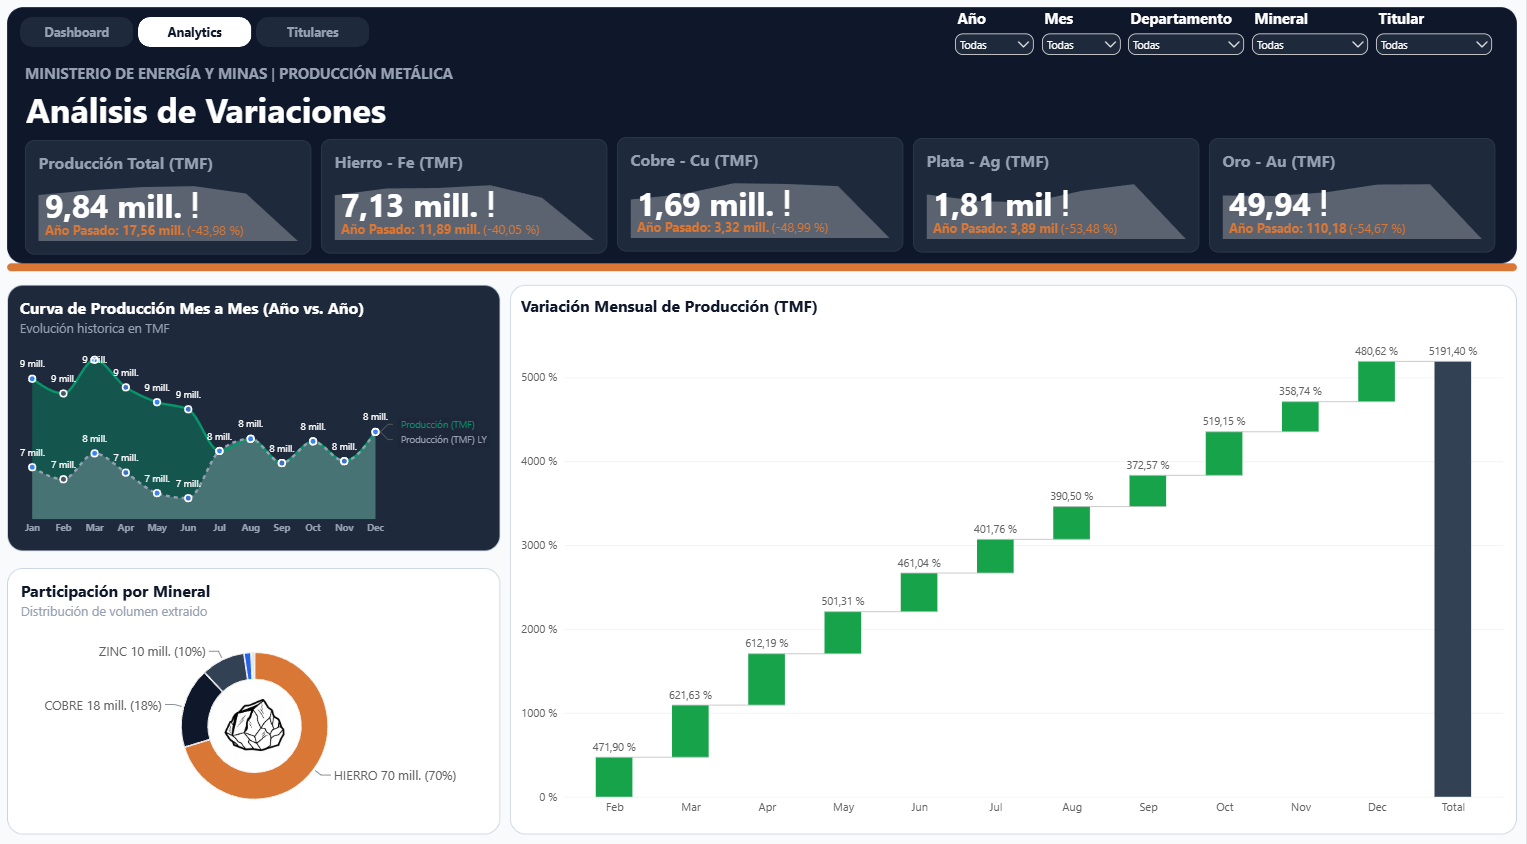

This screenshot's page, from the dashboard's own definition file:
{"tool":"powerbi","page":{"name":"Analytics","canvas":[1920,1080],"ordinal":1},"visuals":[{"type":"textbox","box":[32.9,84.3,701.4,28.6],"z":0},{"type":"textbox","box":[34.3,112.9,705.7,64.3],"z":1000},{"type":"kpi","title":"Producción Total (TMF)","fields":{"Goal":["MEDIDAS.Produccion Total LY"],"Indicator":["MEDIDAS.Produccion Total"],"TrendLine":["DIM_TIEMPO.Año"]},"box":[32.9,181.4,360,144],"z":2000},{"type":"kpi","title":"Cobre - Cu (TMF)","fields":{"Goal":["MEDIDAS.Cobre - Cu (TMF) LY"],"Indicator":["MEDIDAS.Cobre - Cu (TMF)"],"TrendLine":["DIM_TIEMPO.Año"]},"box":[777.1,177.1,360,144.3],"z":3000},{"type":"kpi","title":"Plata - Ag (TMF)","fields":{"Goal":["MEDIDAS.Plata - Ag (TMF) LY"],"Indicator":["MEDIDAS.Plata - Ag (TMF)"],"TrendLine":["DIM_TIEMPO.Año"]},"box":[1149.3,178.6,360,144],"z":4000},{"type":"kpi","title":"Oro - Au (TMF)","fields":{"Goal":["MEDIDAS.Oro - Au (TMF) LY"],"Indicator":["MEDIDAS.Oro - Au (TMF)"],"TrendLine":["DIM_TIEMPO.Año"]},"box":[1521.4,178.6,360,144],"z":5000},{"type":"kpi","title":"Hierro - Fe (TMF)","fields":{"Goal":["MEDIDAS.Hierro - Fe (TMF) LY"],"Indicator":["MEDIDAS.Hierro - Fe (TMF)"],"TrendLine":["DIM_TIEMPO.Año"]},"box":[405,180,360,144],"z":6000},{"type":"shape","box":[26.9,26.5,142.6,37.7],"z":7000},{"type":"shape","box":[174.9,26.5,142.6,37.7],"z":8000},{"type":"shape","box":[322.9,26.5,142.6,37.7],"z":9000},{"type":"slicer","fields":{"Values":["DIM_TIEMPO.Año"]},"box":[1197.1,15.7,108.6,60],"z":10000},{"type":"slicer","fields":{"Values":["DIM_TIEMPO.Mes Corto"]},"box":[1305.7,15.7,108.6,60],"z":11000},{"type":"slicer","fields":{"Values":["DIM_UBICACION.DEPARTAMENTO"]},"box":[1414.3,15.7,155.7,60],"z":12000},{"type":"slicer","fields":{"Values":["DIM_MINERAL.MINERAL"]},"box":[1570,15.7,155.7,60],"z":13000},{"type":"slicer","fields":{"Values":["DIM_EMPRESA.TITULAR"]},"box":[1725.7,15.7,155.7,60],"z":14000},{"type":"lineChart","title":"Curva de Producción Mes a Mes (Año vs. Año)","fields":{"Category":["DIM_TIEMPO.Mes Corto"],"Y":["MEDIDAS.Producción (TMF)","MEDIDAS.Producción (TMF) LY"]},"box":[10,362.9,622.9,334.3],"z":15000},{"type":"waterfallChart","title":"Variación Mensual de Producción (TMF)","fields":{"Category":["DIM_TIEMPO.Mes Corto"],"Y":["MEDIDAS.% Var Mes a Mes"]},"box":[640,361.4,1267.1,690],"z":16000},{"type":"donutChart","title":"Participación por Mineral","fields":{"Category":["DIM_MINERAL.MINERAL"],"Y":["MEDIDAS.Produccion Total"]},"box":[11.4,718.6,620,332.9],"z":17000}]}

Visuals, with their boxes in screenshot pixels (x1, y1, x2, y2), scaled from the page's 1920x1080 canvas onto the 1527x844 screenshot:
textbox: <box>26,66,584,88</box>
textbox: <box>27,88,589,138</box>
"Producción Total (TMF)" kpi: <box>26,142,312,254</box>
"Cobre - Cu (TMF)" kpi: <box>618,138,904,251</box>
"Plata - Ag (TMF)" kpi: <box>914,140,1200,252</box>
"Oro - Au (TMF)" kpi: <box>1210,140,1496,252</box>
"Hierro - Fe (TMF)" kpi: <box>322,141,608,253</box>
shape: <box>21,21,135,50</box>
shape: <box>139,21,253,50</box>
shape: <box>257,21,370,50</box>
slicer - DIM_TIEMPO.Año: <box>952,12,1038,59</box>
slicer - DIM_TIEMPO.Mes Corto: <box>1038,12,1125,59</box>
slicer - DIM_UBICACION.DEPARTAMENTO: <box>1125,12,1249,59</box>
slicer - DIM_MINERAL.MINERAL: <box>1249,12,1372,59</box>
slicer - DIM_EMPRESA.TITULAR: <box>1372,12,1496,59</box>
"Curva de Producción Mes a Mes (Año vs. Año)" lineChart: <box>8,284,503,545</box>
"Variación Mensual de Producción (TMF)" waterfallChart: <box>509,282,1517,822</box>
"Participación por Mineral" donutChart: <box>9,562,502,822</box>
